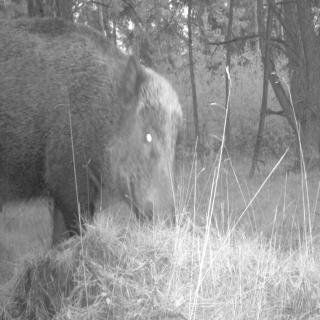Pig: (0, 0, 192, 269)
